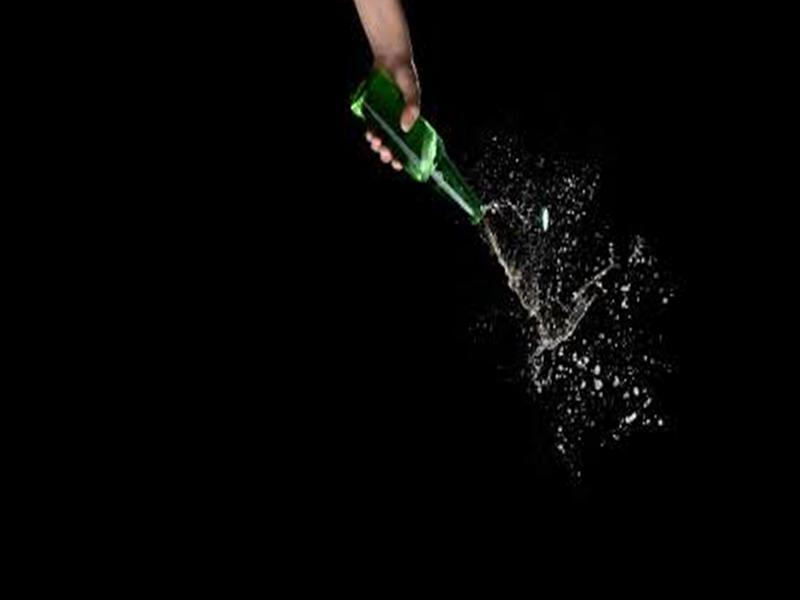Beer: (340, 62, 494, 222)
